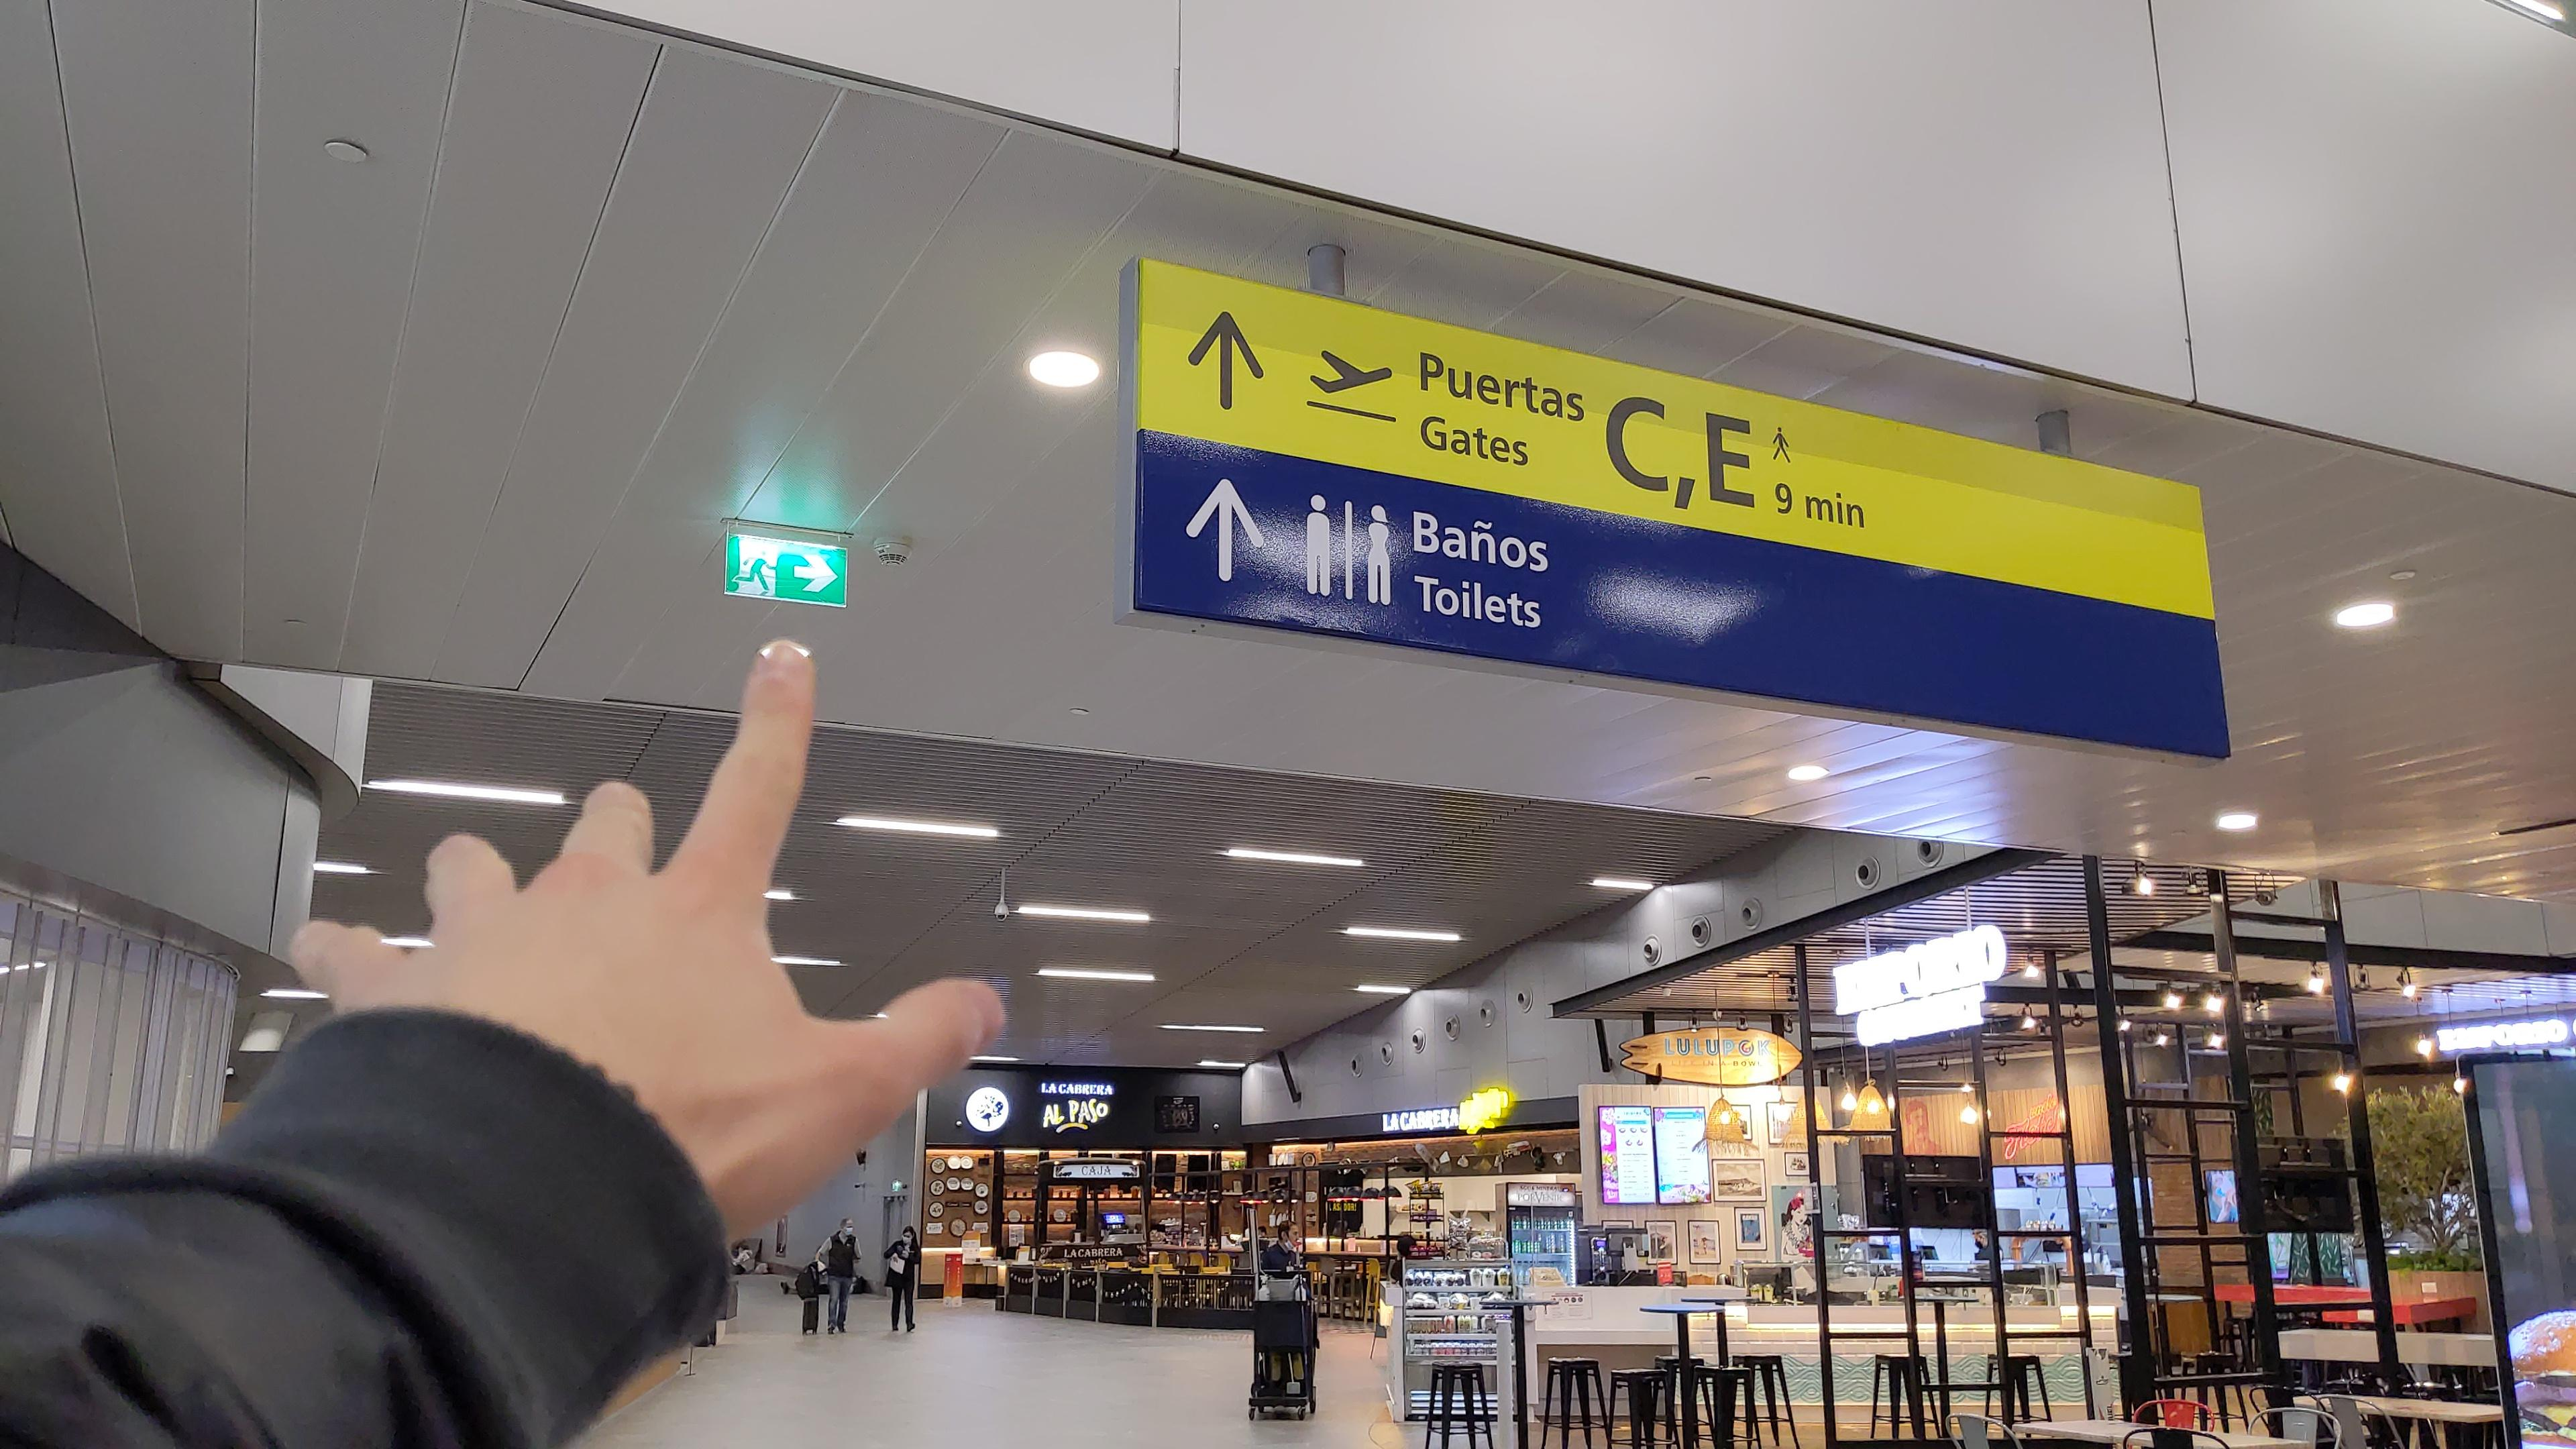airplane symbol: (1304, 345, 1398, 400)
bathrooms: (1299, 490, 1394, 610)
emergency exit: (731, 541, 780, 598)
emergency right arrow: (789, 548, 840, 598)
thin up arrow: (1180, 472, 1274, 587), (1185, 304, 1272, 414)
